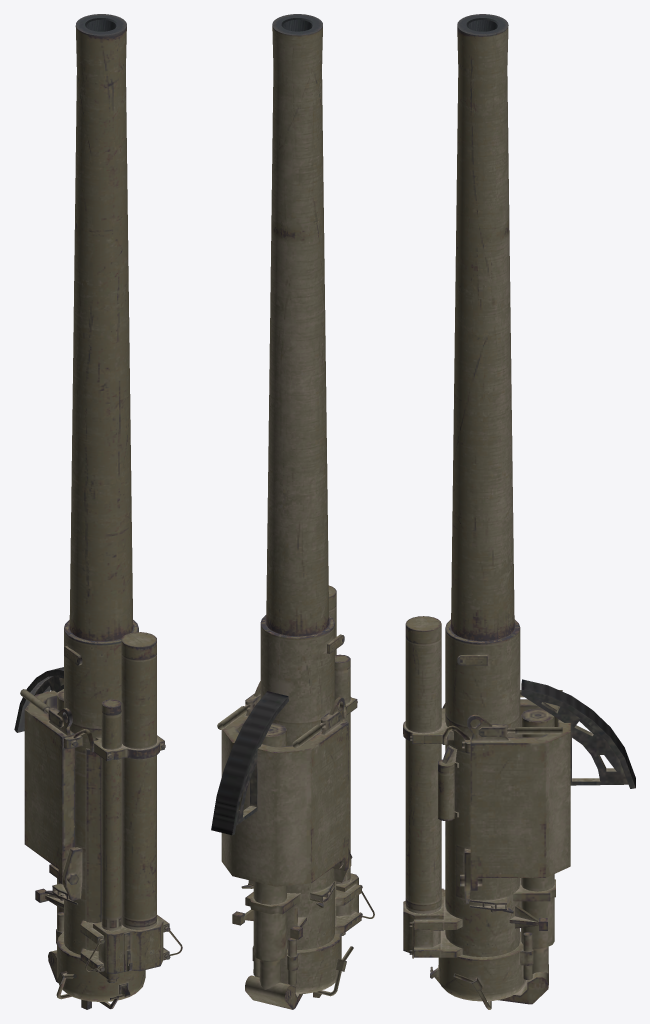
Rendered from Gun_01.glb.
3 renders of one model, left to right at view 1: azimuth 30°, elevation 25°; view 2: azimuth 150°, elevation 25°; view 3: azimuth 270°, elevation 25°, orthographic.
Visible parts, largest first — view 1: set_0_group_0; view 2: set_0_group_0; view 3: set_0_group_0.
Boxes of the visible parts, left/top/right/bottom form: set_0_group_0: left=14, top=14, right=182, bottom=1009; set_0_group_0: left=211, top=14, right=374, bottom=1009; set_0_group_0: left=403, top=14, right=635, bottom=1009.
Bounding box in the file's own units: 0.8663 × 8.66 × 1.87.
Materials: 1 (1 with a texture image).
